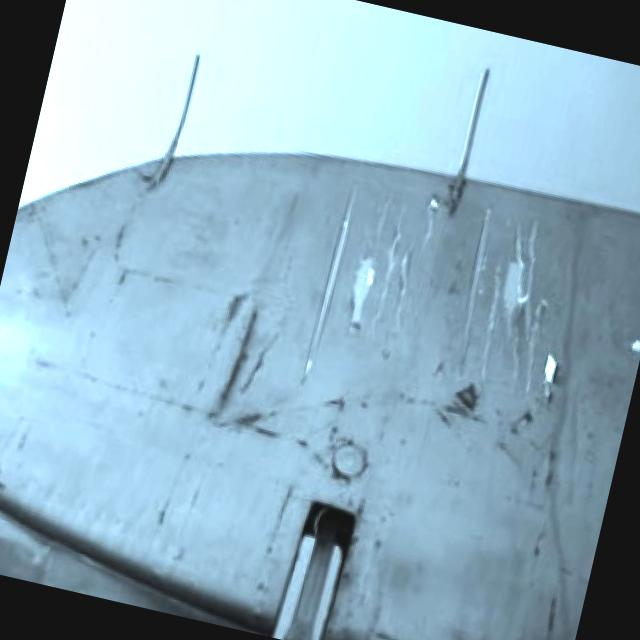crack: (296, 164, 576, 436)
